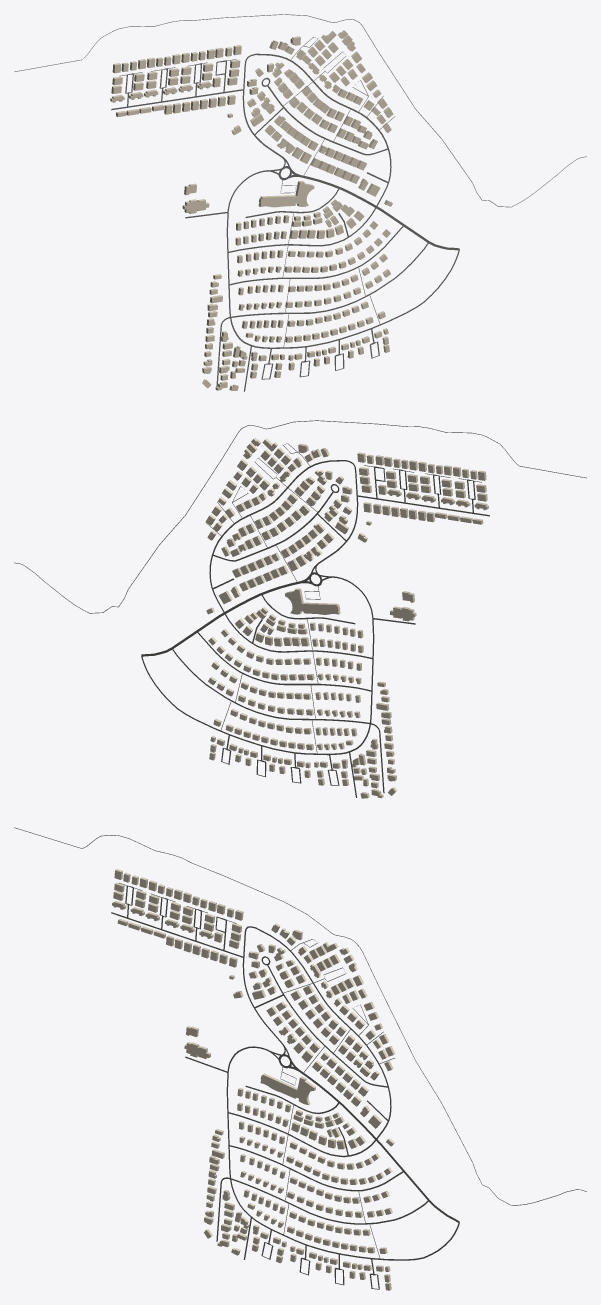
Rendered from historic-palestine-11_32_3533_3264.glb.
3 renders of one model, top to bottom at view 1: azimuth 30°, elevation 25°; view 2: azimuth 150°, elevation 25°; view 3: azimuth 330°, elevation 25°, orthographic.
Parts seen in each view (by area): view 1: Road רקפות, Road .006, Building_.254, Road האירוסים.002, Road האלון; view 2: Road רקפות, Road .006, Building_.254, Road האירוסים.002; view 3: Road רקפות, Road .006, Building_.254.
Part boxes in pixels (x1,y1,x2,y2): Road רקפות: [226, 170, 459, 348]; Road .006: [14, 14, 586, 207]; Building_.254: [258, 181, 314, 207]; Road האירוסים.002: [299, 175, 459, 250]; Road האלון: [248, 53, 391, 207]; Road רקפות: [141, 576, 374, 755]; Road .006: [14, 420, 586, 613]; Building_.254: [285, 588, 340, 614]; Road האירוסים.002: [141, 581, 301, 656]; Road רקפות: [226, 1046, 459, 1260]; Road .006: [14, 827, 586, 1205]; Building_.254: [260, 1073, 315, 1104].
Bounding box in the file's own units: 1384 × 912 × 8.7.
